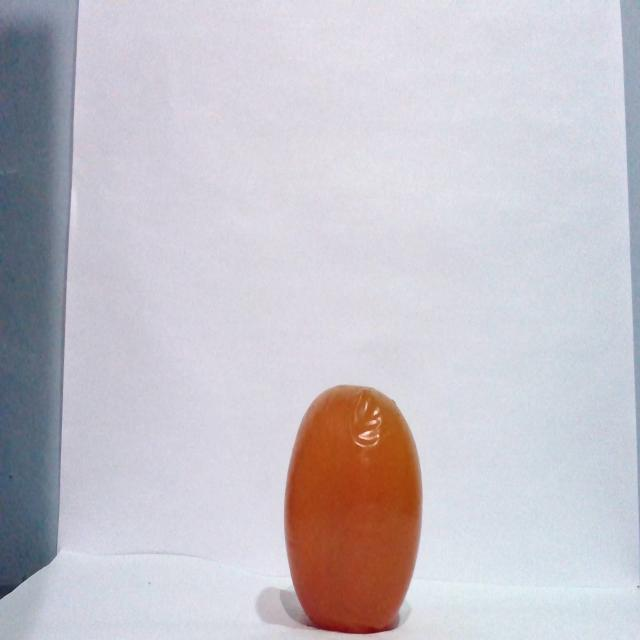Red: (282, 383, 423, 633)
